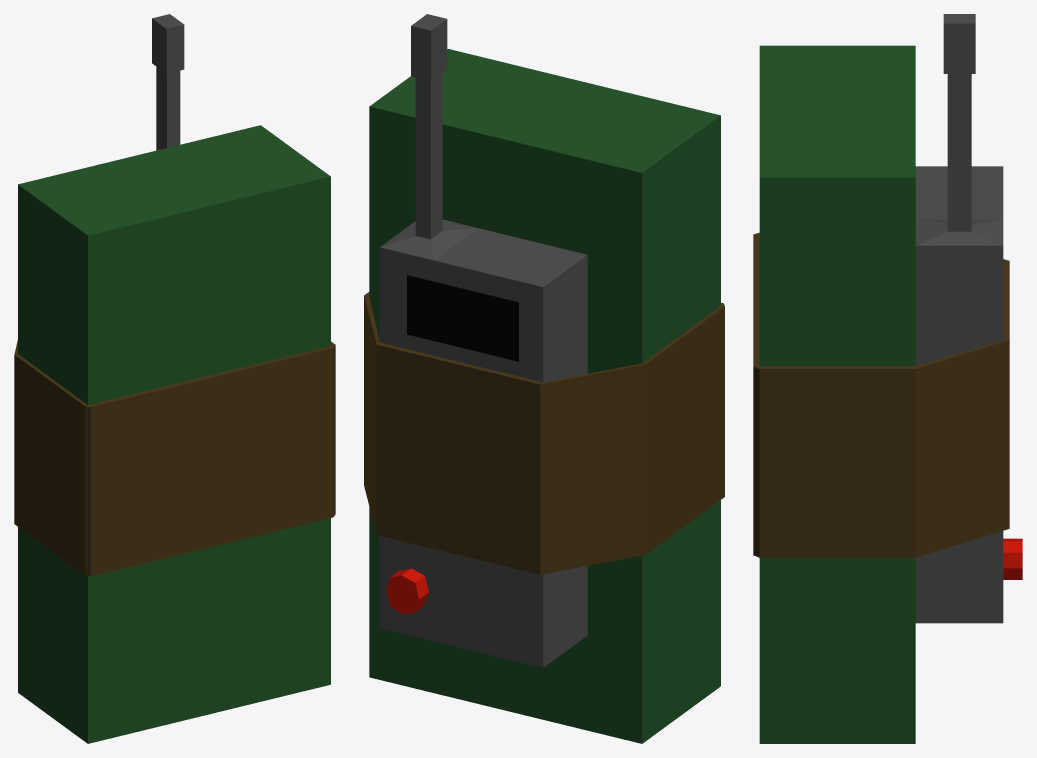
3 views of the same model, side by side, from view 1: azimuth 30°, elevation 25°; view 2: azimuth 150°, elevation 25°; view 3: azimuth 270°, elevation 25° (orthographic). The views are drawn at different scales.
Parts seen in each view (by area): view 1: Cube; view 2: Cube; view 3: Cube.
Part boxes in pixels (<box>): Cube: <box>14,14,335,743</box>; Cube: <box>364,14,724,743</box>; Cube: <box>753,14,1022,743</box>.
Bounding box in the file's own units: 207 × 484 × 172.
